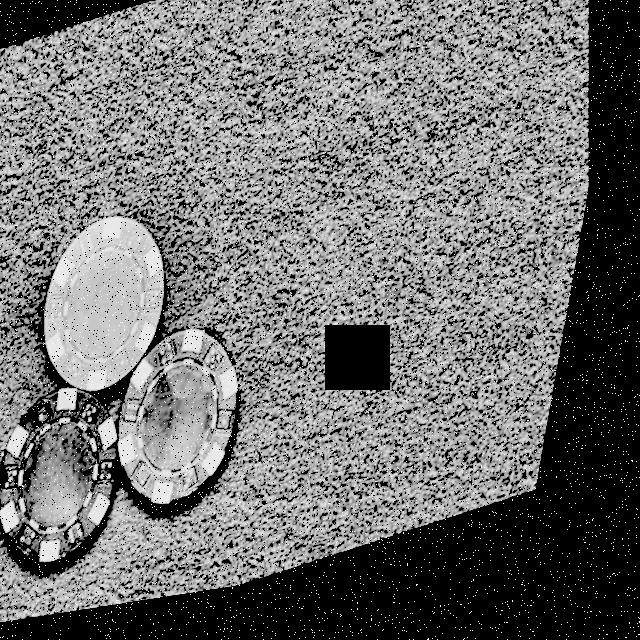Chip: (99, 304, 300, 542), (21, 189, 211, 423), (0, 367, 170, 605)
